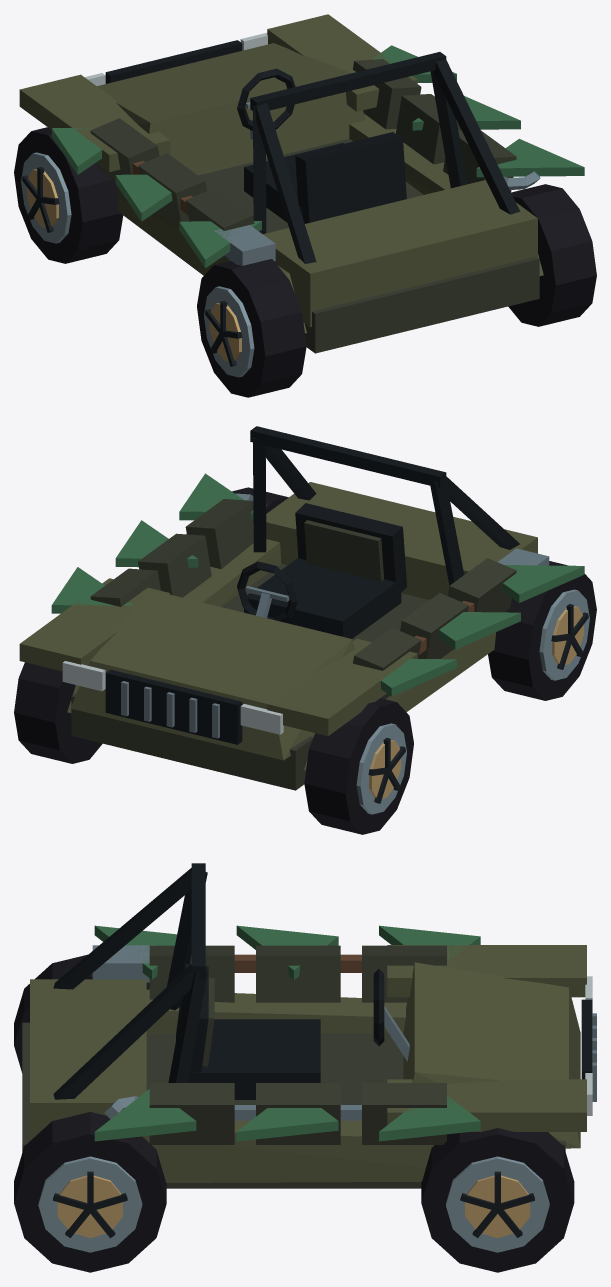
Rendered from kart.glb.
3 views of the same model, one above another, from view 1: azimuth 30°, elevation 25°; view 2: azimuth 150°, elevation 25°; view 3: azimuth 270°, elevation 25° (orthographic). The views are drawn at different scales.
Parts seen in each view (by area): view 1: identity-jeep-jeep-offroad-frame, wheel-rear-left, identity-jeep-motif-armor, wheel-front-left, identity-jeep-driver-cockpit, identity-jeep-motif-leaves, wheel-rear-right, identity-jeep-motif-tools; view 2: identity-jeep-jeep-offroad-frame, identity-jeep-driver-cockpit, identity-jeep-motif-armor, wheel-front-left, identity-jeep-motif-leaves, wheel-rear-left, wheel-front-right, identity-jeep-motif-tools; view 3: identity-jeep-jeep-offroad-frame, identity-jeep-motif-armor, wheel-rear-right, wheel-front-right, identity-jeep-motif-leaves, identity-jeep-driver-cockpit, identity-jeep-motif-tools, wheel-rear-left.
Boxes of the visible parts, bbox=[...] form: identity-jeep-jeep-offroad-frame: bbox=[19, 14, 543, 353]; wheel-rear-left: bbox=[197, 259, 306, 397]; identity-jeep-motif-armor: bbox=[90, 59, 516, 261]; wheel-front-left: bbox=[14, 127, 123, 263]; identity-jeep-driver-cockpit: bbox=[237, 68, 406, 223]; identity-jeep-motif-leaves: bbox=[51, 45, 584, 268]; wheel-rear-right: bbox=[508, 184, 596, 326]; identity-jeep-motif-tools: bbox=[132, 161, 540, 265]; identity-jeep-jeep-offroad-frame: bbox=[19, 426, 537, 790]; identity-jeep-driver-cockpit: bbox=[237, 503, 406, 638]; identity-jeep-motif-armor: bbox=[90, 499, 516, 699]; wheel-front-left: bbox=[304, 698, 413, 834]; identity-jeep-motif-leaves: bbox=[51, 473, 584, 696]; wheel-rear-left: bbox=[488, 561, 596, 700]; wheel-front-right: bbox=[14, 662, 102, 763]; identity-jeep-motif-tools: bbox=[235, 493, 549, 654]; identity-jeep-jeep-offroad-frame: bbox=[22, 863, 596, 1188]; identity-jeep-motif-armor: bbox=[149, 945, 446, 1144]; wheel-rear-right: bbox=[14, 1112, 166, 1272]; wheel-front-right: bbox=[421, 1128, 574, 1272]; identity-jeep-motif-leaves: bbox=[94, 925, 480, 1141]; identity-jeep-driver-cockpit: bbox=[176, 964, 409, 1099]; identity-jeep-motif-tools: bbox=[92, 945, 361, 1120]; wheel-rear-left: bbox=[14, 954, 149, 1072].
Bounding box in the file's own units: 2.3 × 1.39 × 2.75.
